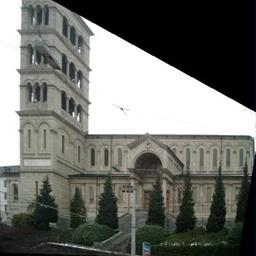building: (17, 108, 256, 230)
